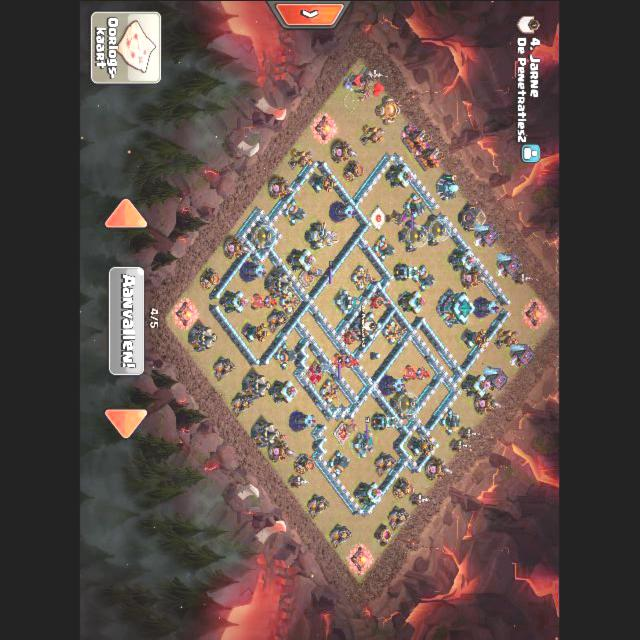AD: (309, 172, 338, 192), (242, 321, 271, 341), (462, 327, 491, 347), (408, 435, 437, 455)
AirSweeper: (367, 291, 392, 309), (340, 327, 359, 345)
BombTower: (372, 412, 399, 428), (395, 263, 421, 279)
Canon: (284, 197, 308, 225), (274, 342, 298, 369), (413, 263, 436, 291), (373, 234, 396, 261), (328, 449, 351, 476), (405, 191, 427, 219), (441, 407, 463, 434)
ClanCastle: (350, 311, 384, 340)
Eagle: (305, 220, 340, 248)
Inferno: (252, 292, 278, 308), (405, 364, 430, 380), (333, 353, 359, 368)
KingPad: (335, 422, 352, 445)
Mortar: (394, 476, 416, 498), (295, 452, 316, 474), (200, 266, 221, 288), (344, 158, 365, 180)
QueenPad: (308, 361, 326, 386)
RcPad: (301, 266, 315, 286)
Scattershot: (334, 289, 361, 314), (352, 428, 375, 456)
TH13: (438, 291, 478, 324)
WardenPad: (372, 207, 387, 227)
WizzTower: (474, 296, 500, 316), (289, 411, 316, 430), (240, 261, 267, 280), (330, 201, 357, 220), (380, 375, 406, 394)
Xbow: (351, 264, 377, 289), (384, 317, 408, 343), (279, 288, 302, 314), (320, 377, 342, 403)
